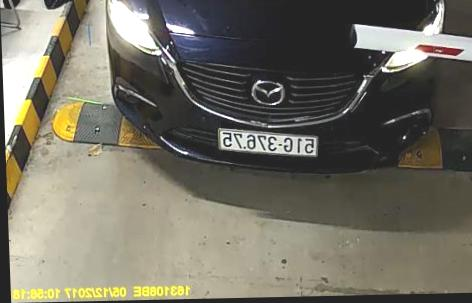License_Plate: (215, 128, 321, 154)
